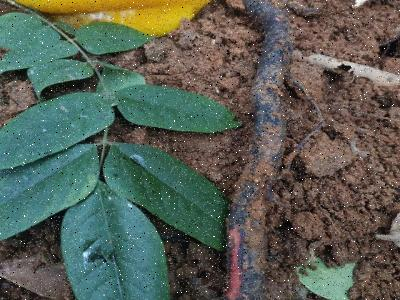Root: (226, 0, 292, 300)
